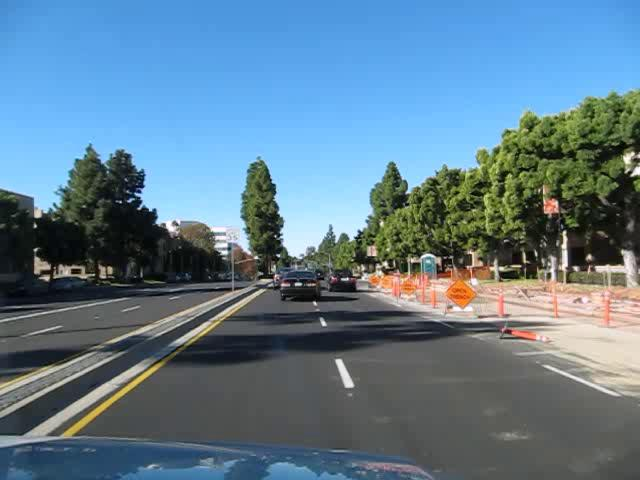speedLimit35: (225, 227, 239, 242)
